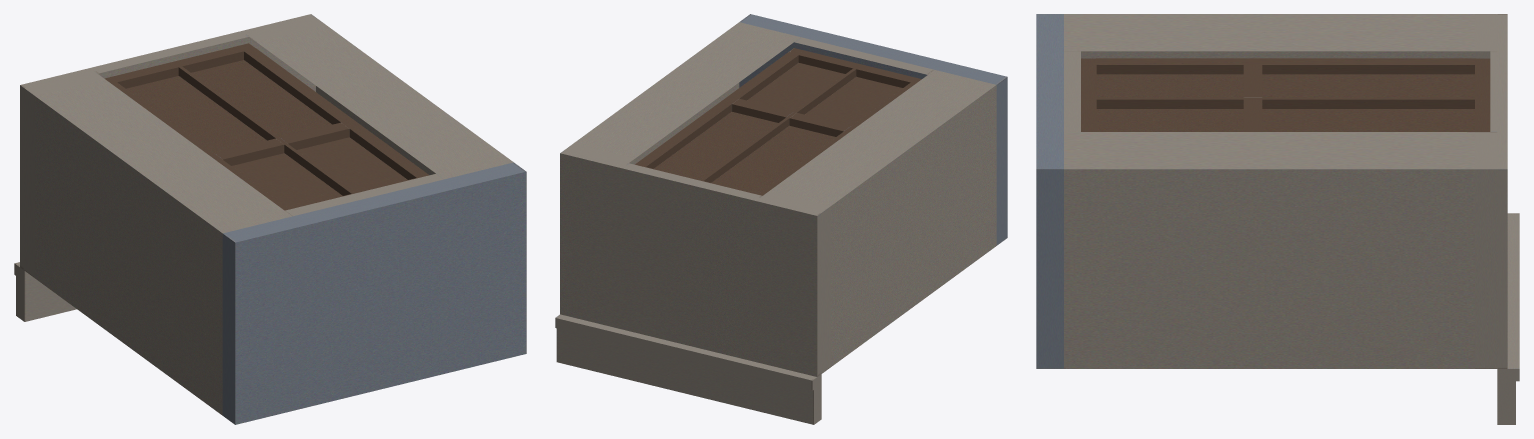
The model's file is entrance.obj.
The picture shows the model from 3 angles, left to right: view 1: azimuth 30°, elevation 25°; view 2: azimuth 150°, elevation 25°; view 3: azimuth 270°, elevation 25°; orthographic projection. The views are drawn at different scales.
Bounding box in the file's own units: 2.14 × 1.64 × 2.81.
1 material, 1 textured.
